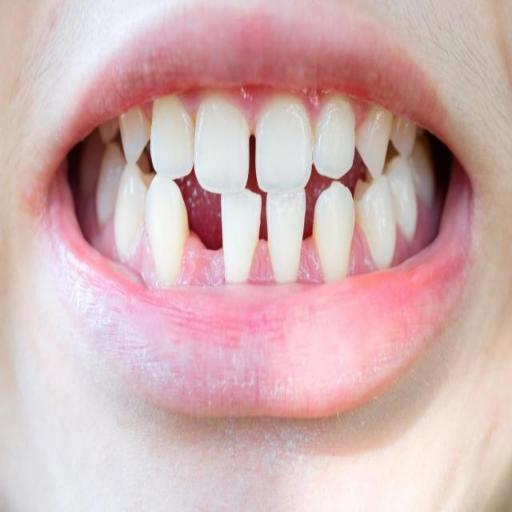spaced: (184, 196, 226, 282), (256, 192, 270, 260), (304, 192, 318, 252), (246, 119, 258, 181)
